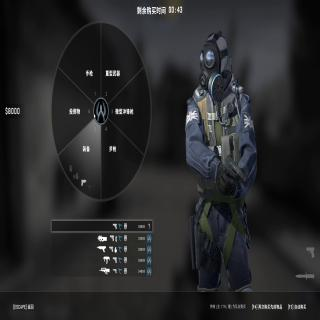CT-Body: (185, 32, 258, 294)
CT-Head: (198, 33, 228, 91)
